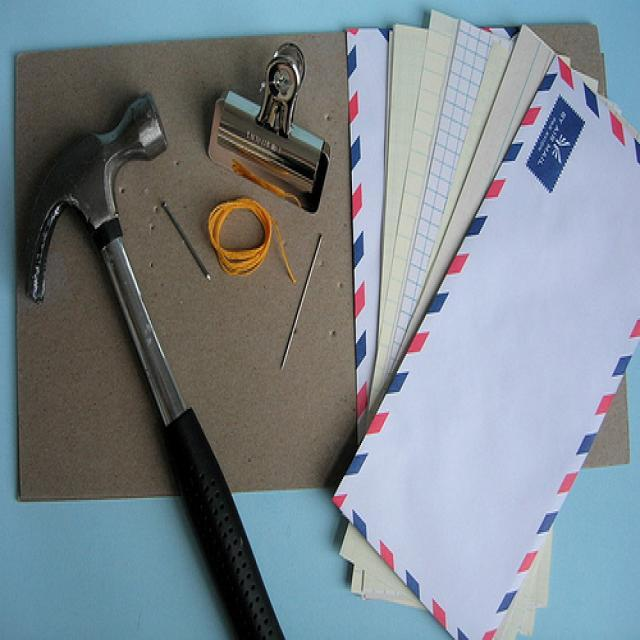hammer: (8, 80, 288, 640)
